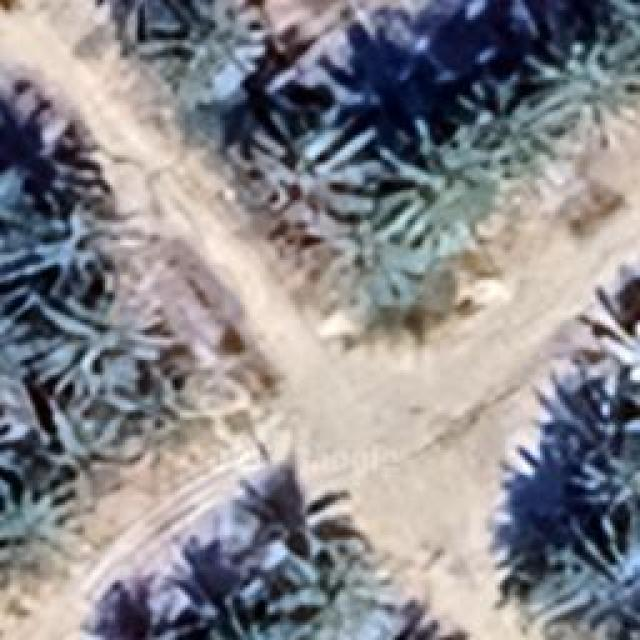PalmTree: (358, 115, 502, 250), (22, 280, 176, 400), (528, 30, 638, 160), (242, 126, 352, 249), (332, 221, 430, 341), (140, 0, 268, 88), (0, 468, 80, 602), (0, 188, 98, 290), (282, 540, 388, 630), (47, 387, 153, 477), (470, 86, 558, 179), (568, 514, 638, 628), (588, 266, 640, 414), (570, 422, 640, 502), (207, 606, 313, 640), (0, 306, 31, 409), (0, 390, 31, 493)
